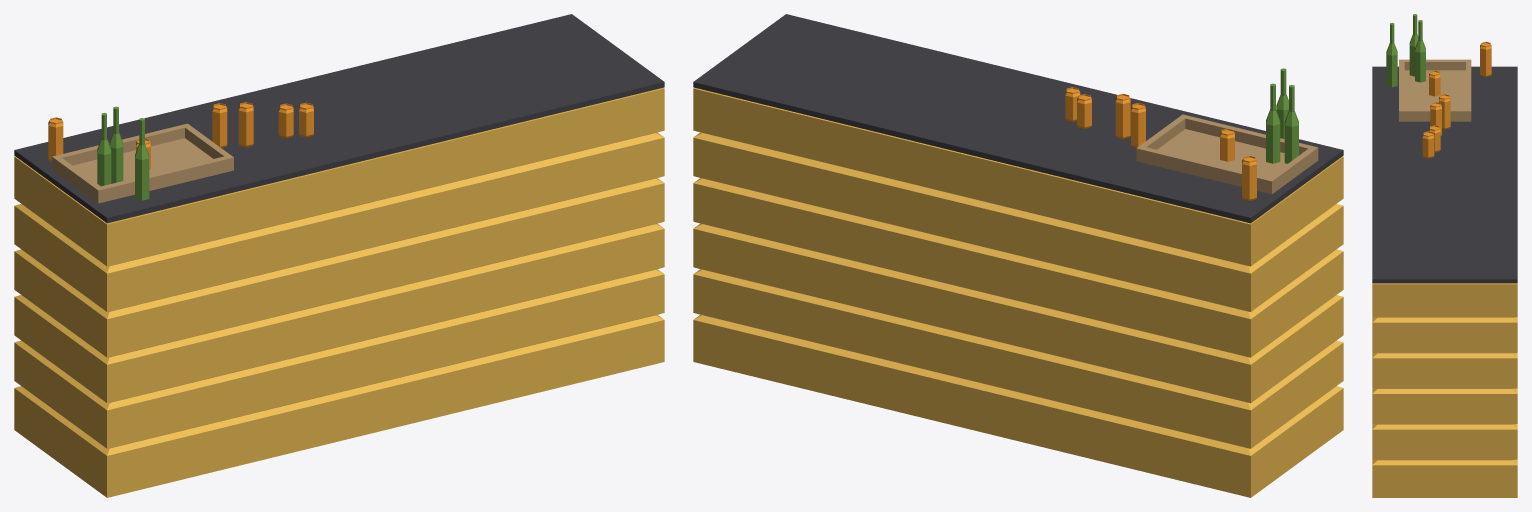
The model's file is Table_side.fbx.
3 views of the same model, side by side, from view 1: azimuth 30°, elevation 25°; view 2: azimuth 150°, elevation 25°; view 3: azimuth 270°, elevation 25° (orthographic). The views are drawn at different scales.
Parts seen in each view (by area): view 1: Rectangle009, Rectangle005, NGon002, NGon005; view 2: Rectangle009, Rectangle005, NGon002, NGon005; view 3: Rectangle009, Rectangle005, NGon002, NGon005.
Part boxes in pixels (x1,y1,x2,y2): Rectangle009: [14, 14, 664, 497]; Rectangle005: [52, 123, 233, 203]; NGon002: [48, 102, 313, 169]; NGon005: [97, 106, 149, 200]; Rectangle009: [693, 14, 1343, 497]; Rectangle005: [1136, 114, 1318, 194]; NGon002: [1065, 87, 1256, 200]; NGon005: [1266, 68, 1298, 163]; Rectangle009: [1372, 66, 1517, 497]; Rectangle005: [1399, 59, 1471, 121]; NGon002: [1422, 42, 1491, 158]; NGon005: [1386, 14, 1425, 87].
Size of the model in its own units: 230 by 141 by 66.4.
